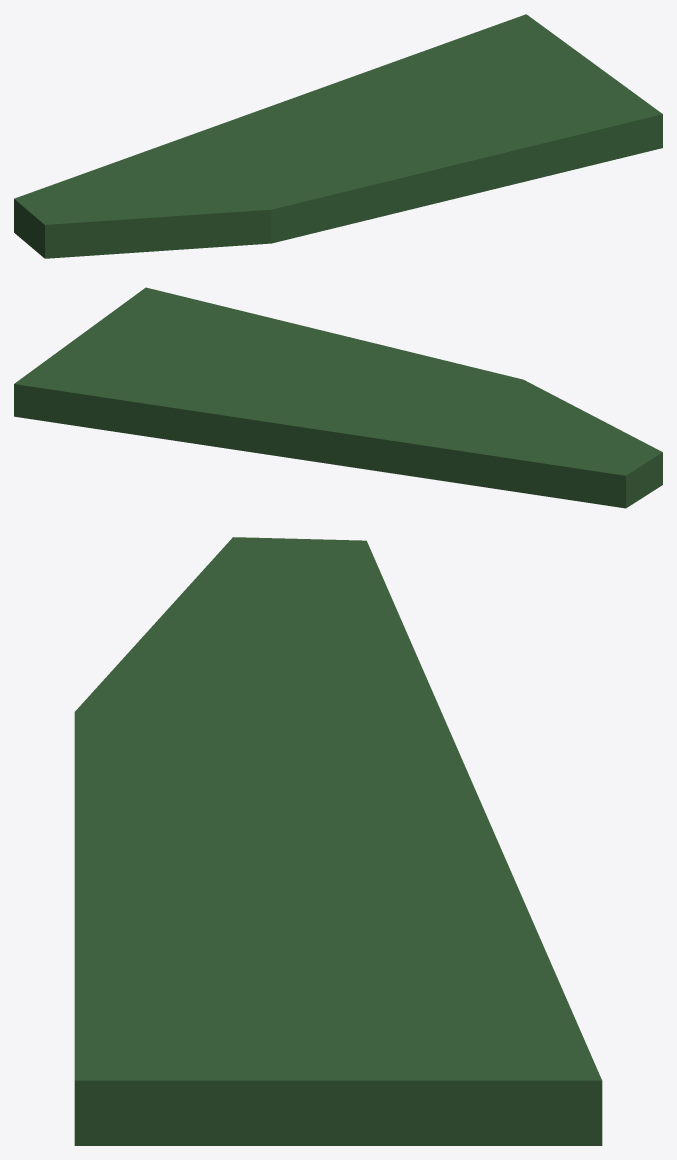
File: x_proval_00_44_1_rmstrd.fbx
The picture shows the model from 3 angles, top to bottom: view 1: azimuth 30°, elevation 25°; view 2: azimuth 150°, elevation 25°; view 3: azimuth 270°, elevation 25°; orthographic projection. The views are drawn at different scales.
Visible parts, largest first — view 1: x_proval_00_44_1_rmstrd1; view 2: x_proval_00_44_1_rmstrd1; view 3: x_proval_00_44_1_rmstrd1.
Boxes of the visible parts, x1,y1,x2,y2 form: x_proval_00_44_1_rmstrd1: (14,14,662,258); x_proval_00_44_1_rmstrd1: (14,287,662,508); x_proval_00_44_1_rmstrd1: (74,537,602,1145).
Size of the model in its own units: 3.57 by 0.2 by 1.46.
